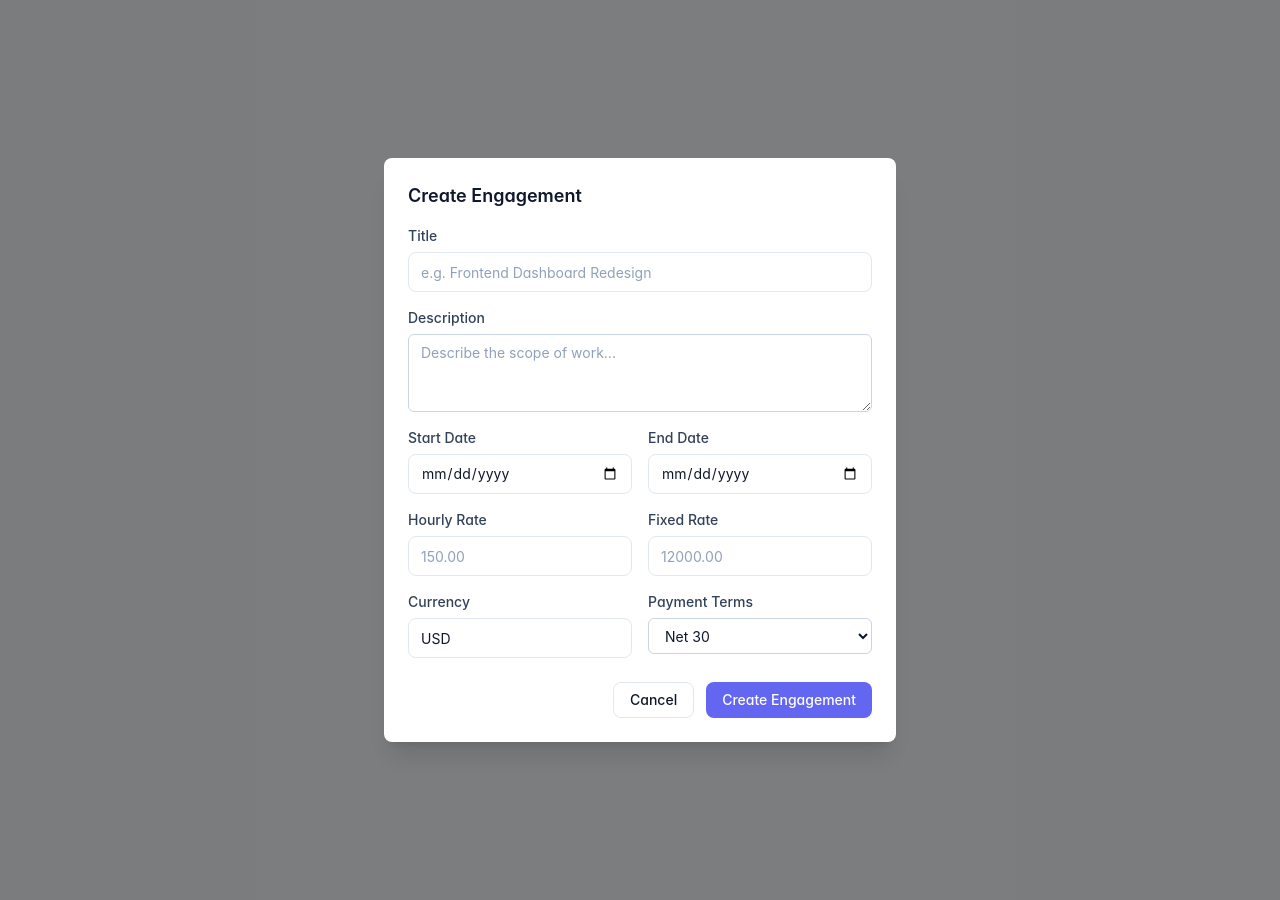
Scenario: EngagementForm › shows an inline currency error when the code is not 3 letters
Type "Q3 Engagement" into the field labelled "Title" at (640, 272), box [408,252,872,292]
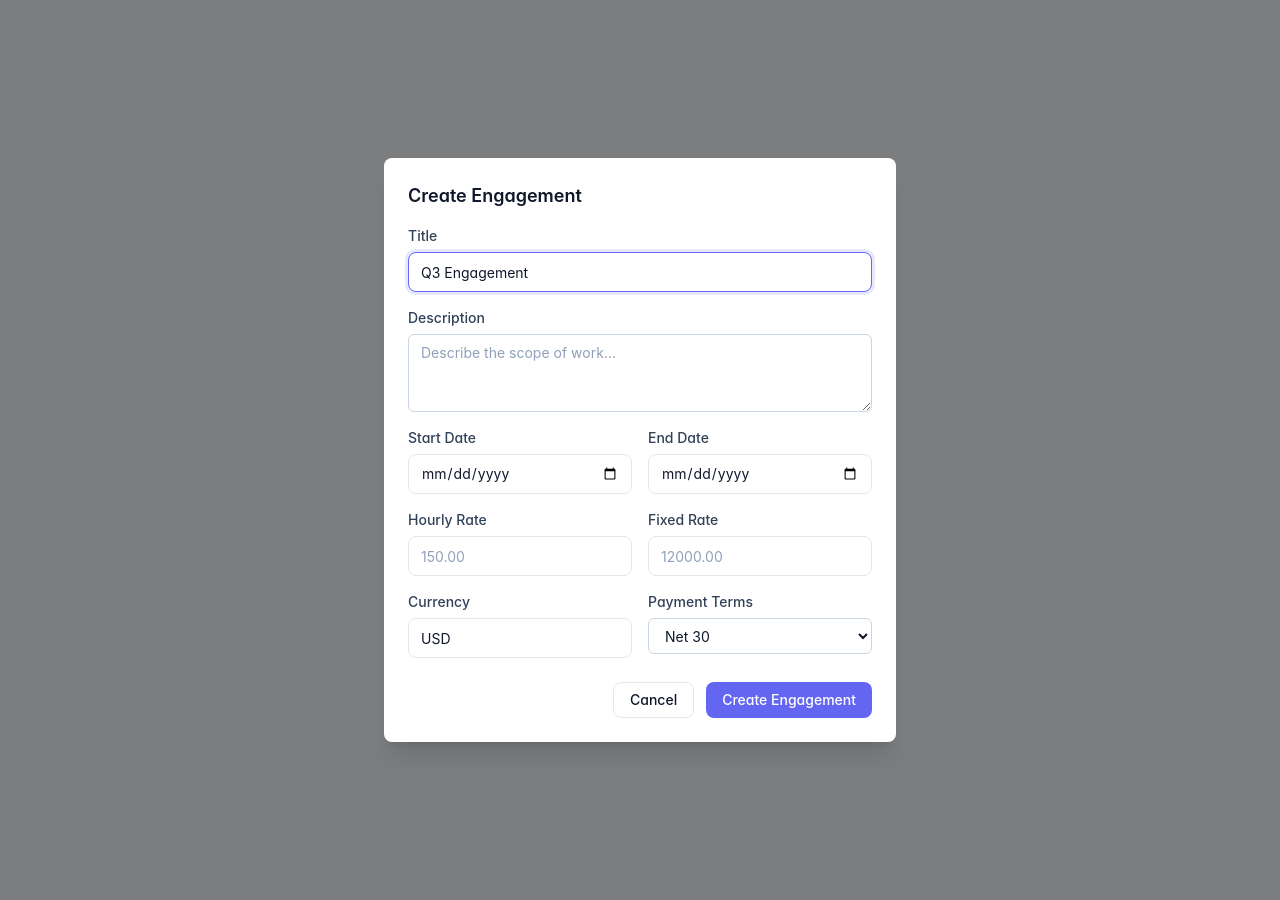
Type "2026-07-01" into the date field labelled "Start Date" at (520, 474), box [408,454,632,494]
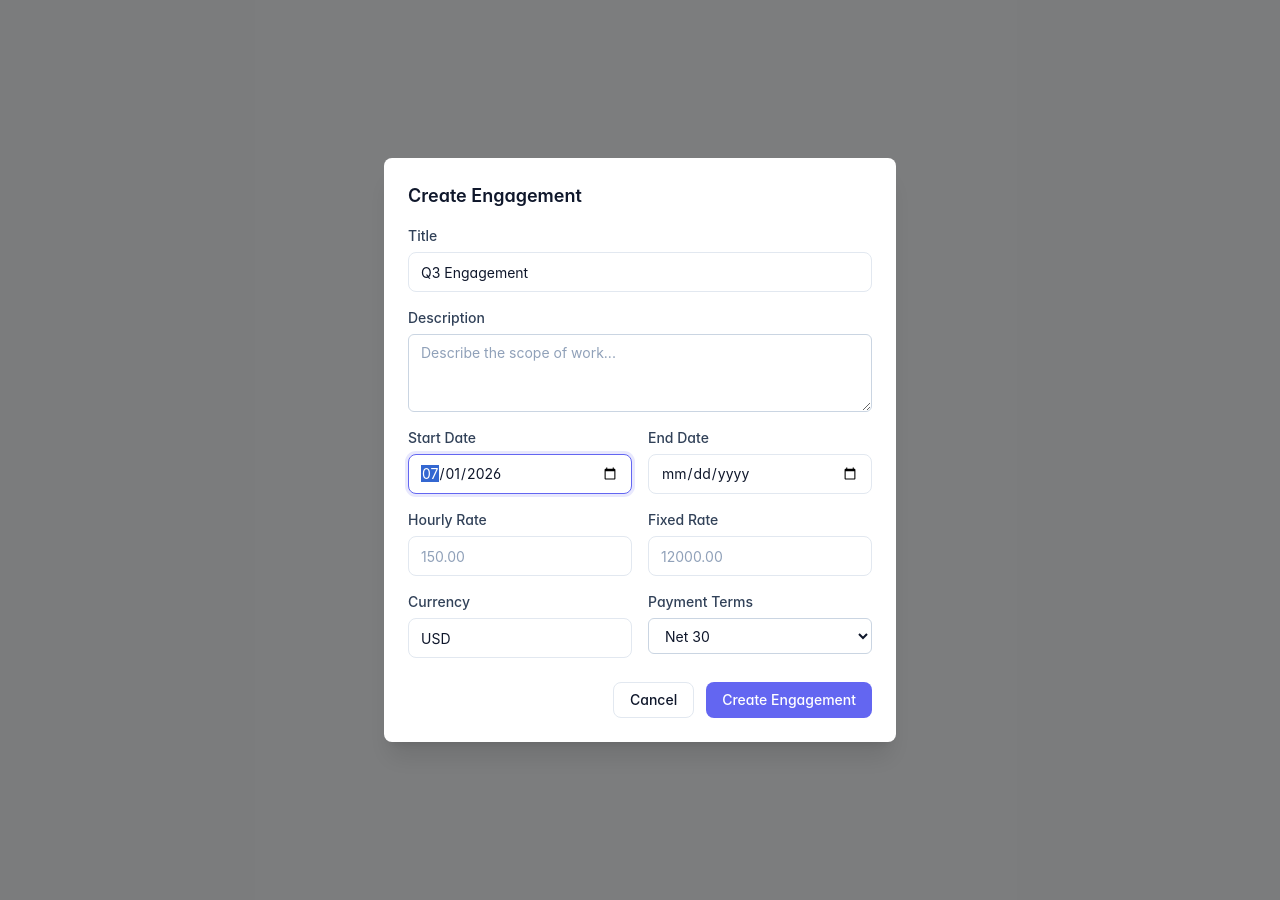
Type "125" into the number field labelled "Hourly Rate" at (520, 556), box [408,536,632,576]
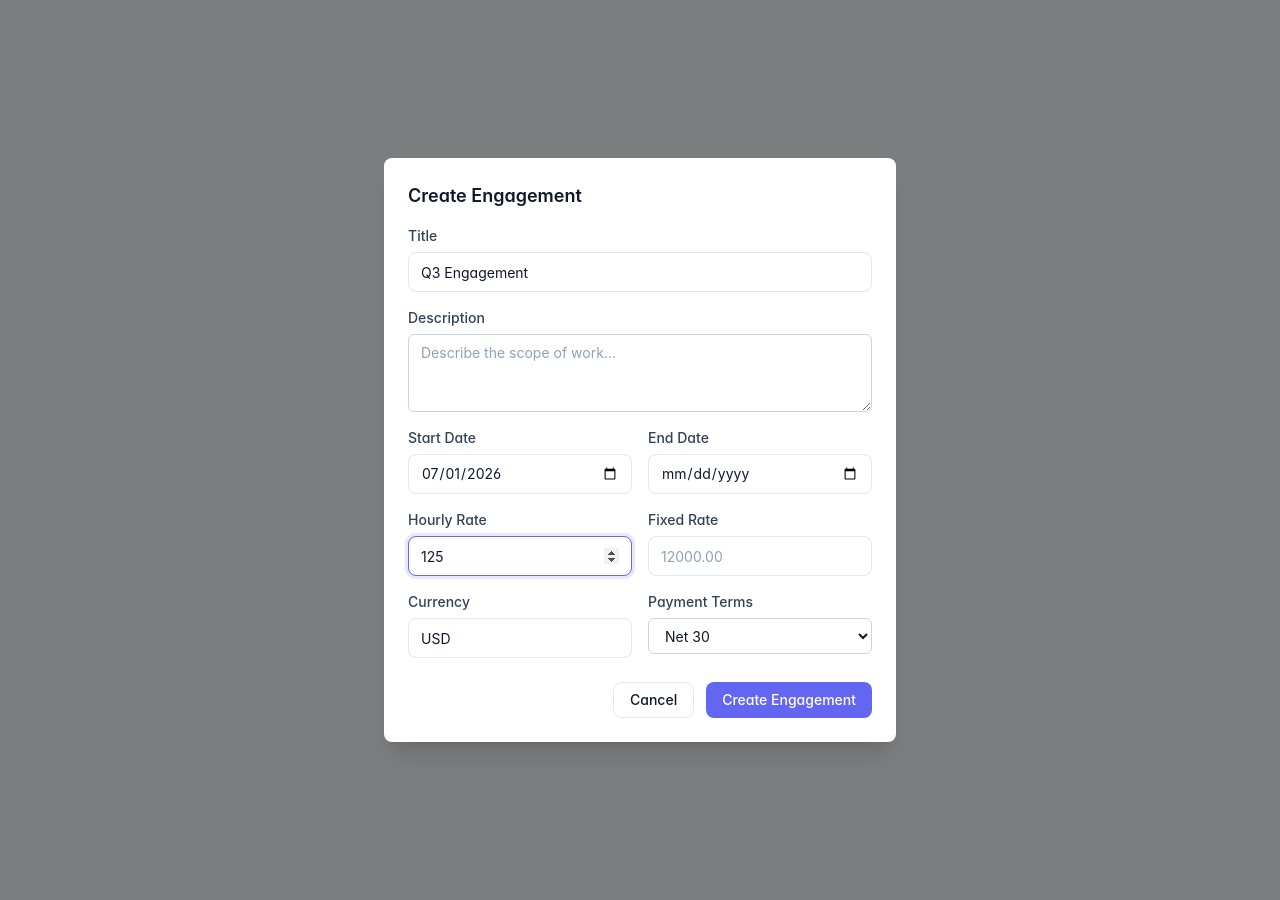
Replace the text in the field labelled "Currency" with "US" at (520, 638), box [408,618,632,658]
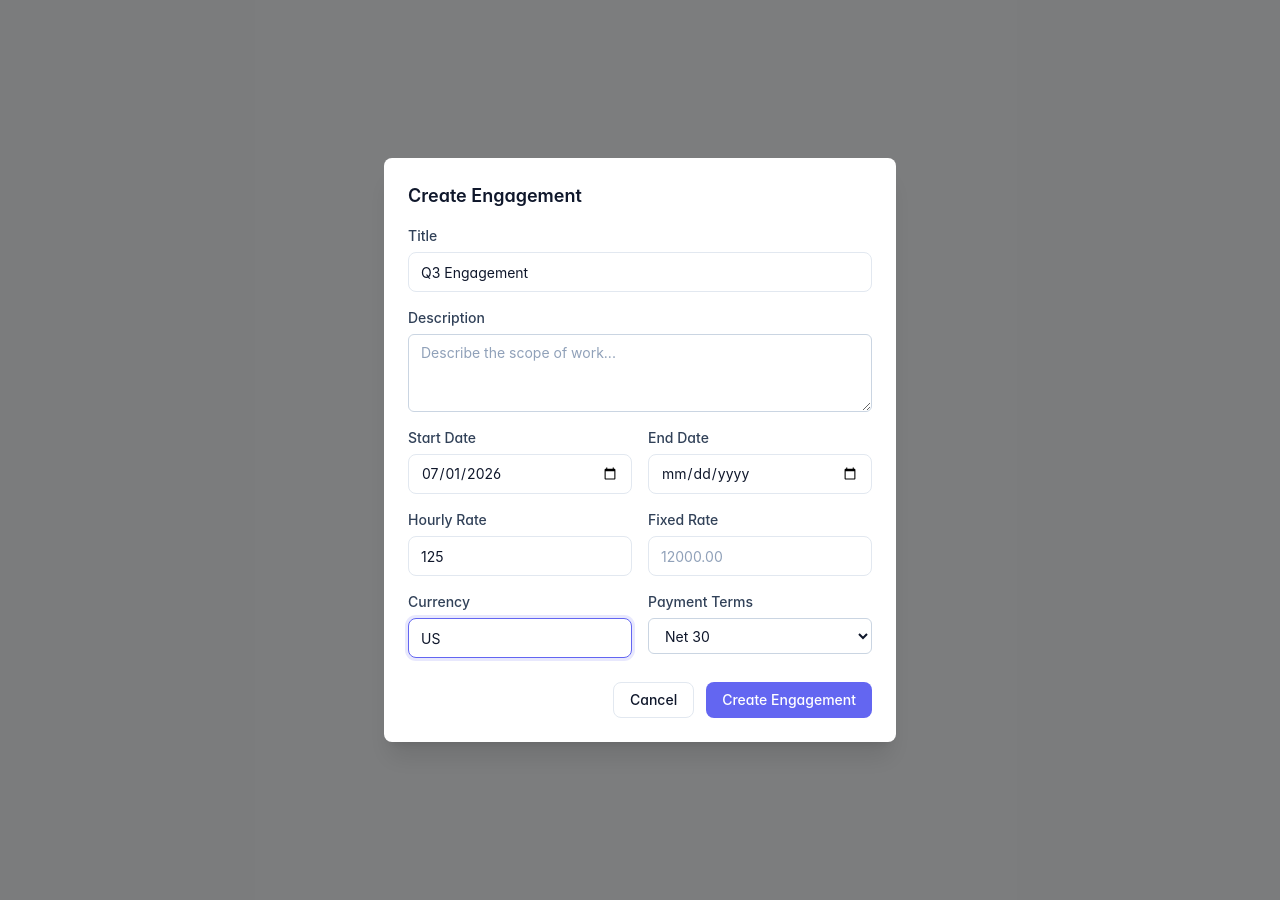
Click the button "Create Engagement" at (789, 700), box [706,682,872,718]
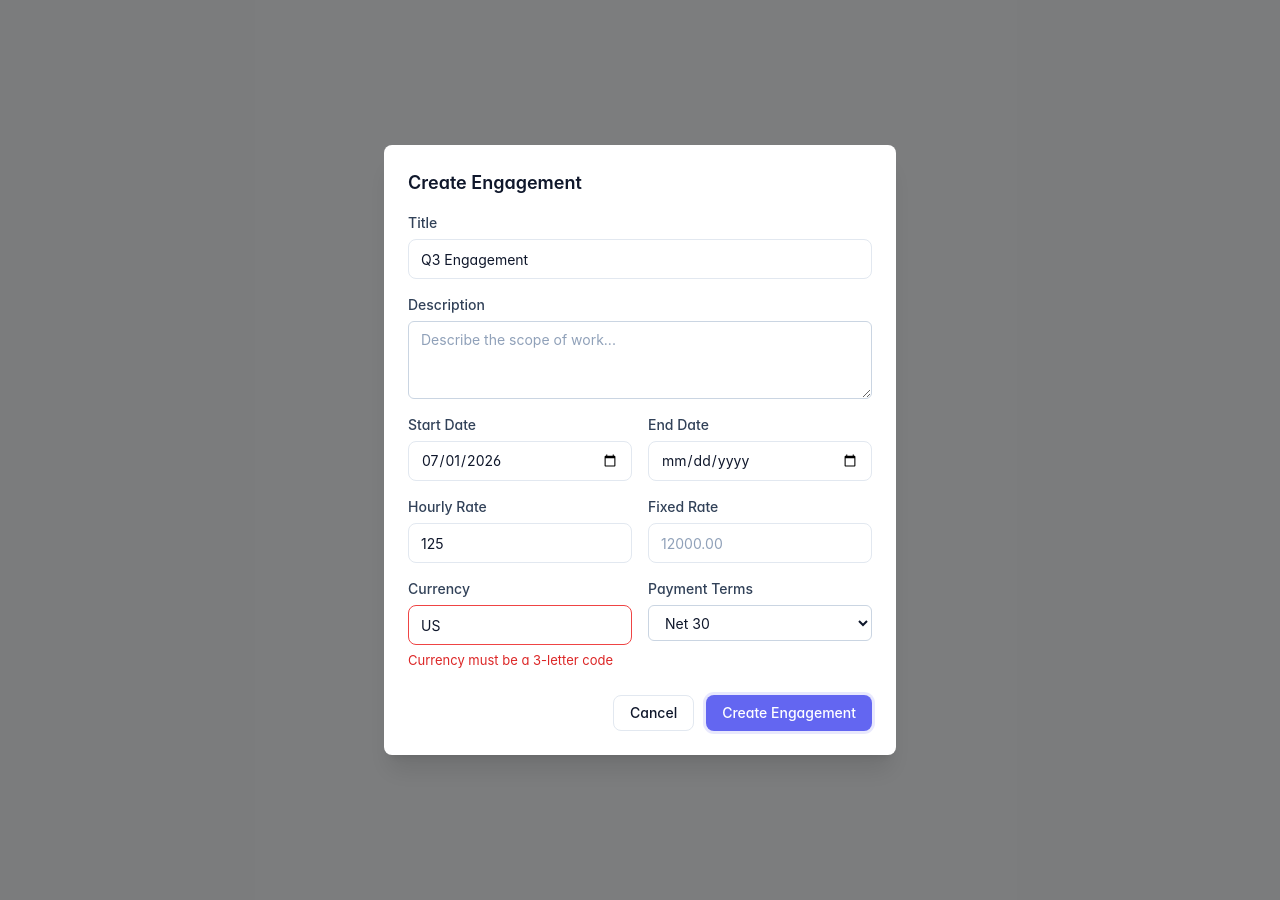
Now the text "Currency must be a 3-letter code" is shown, box [408,651,632,671]
